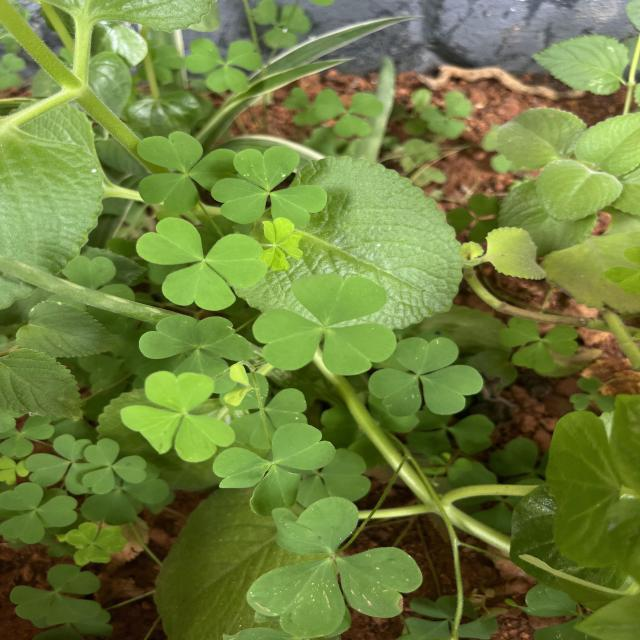Oxalis corniculata: (244, 494, 423, 639), (251, 273, 399, 377), (135, 216, 268, 312), (212, 422, 338, 517), (120, 370, 236, 463), (210, 146, 328, 228), (368, 336, 484, 418), (136, 130, 238, 214), (138, 314, 254, 363), (0, 482, 79, 544), (499, 317, 579, 373), (81, 437, 148, 495)
